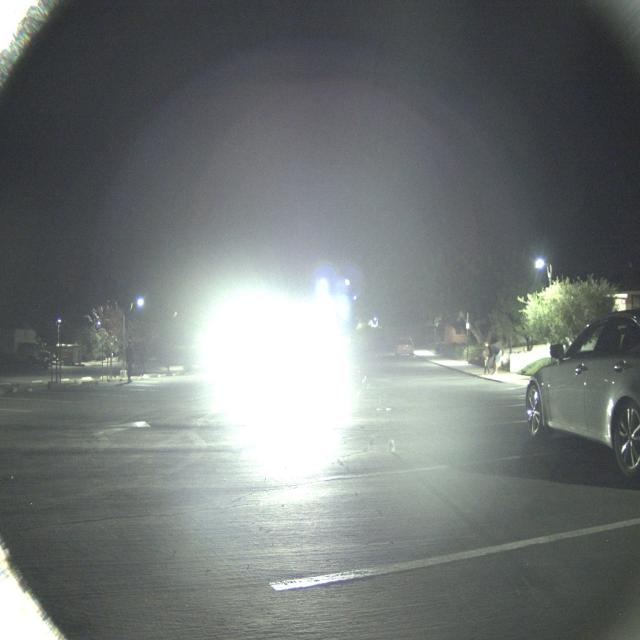humans: (481, 338, 504, 378), (125, 338, 136, 385)
